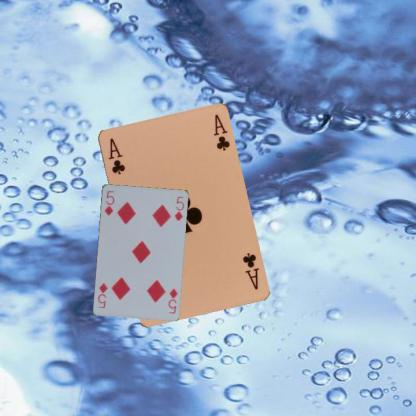5d: (102, 188, 116, 216), (165, 286, 179, 314)
Ac: (106, 135, 127, 176), (240, 250, 260, 291)
